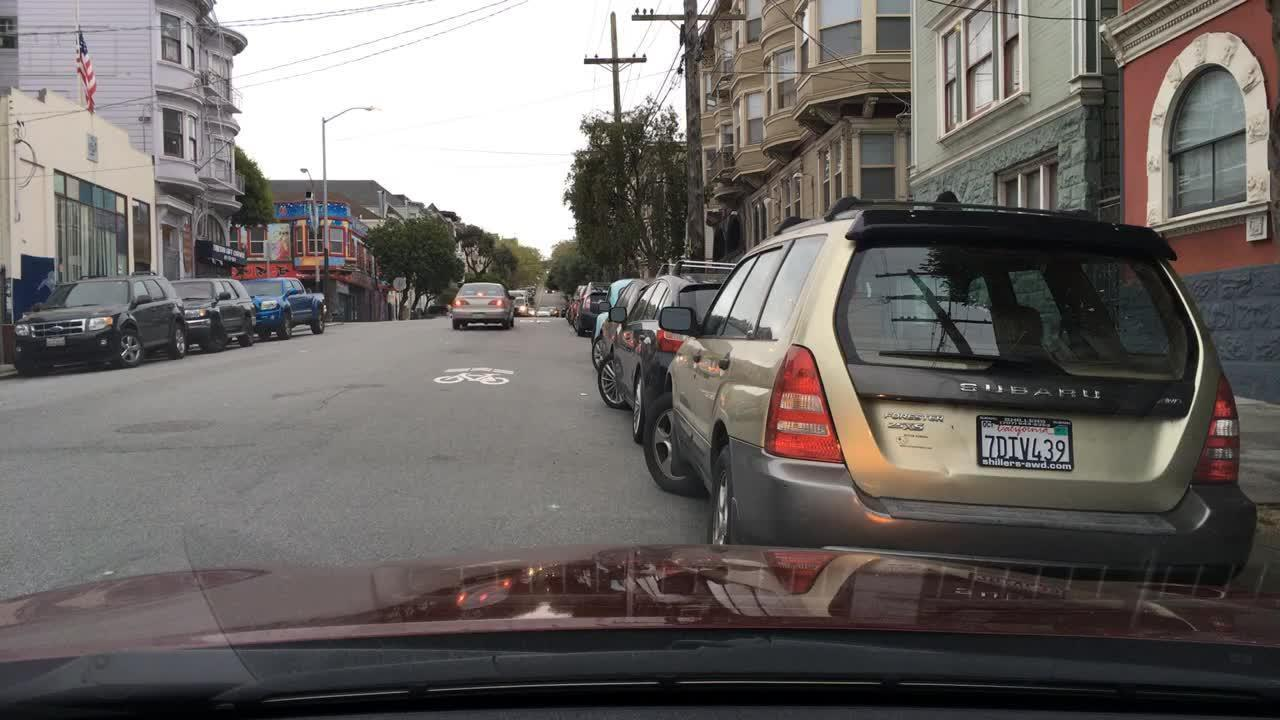subaru: (945, 377, 1127, 410)
